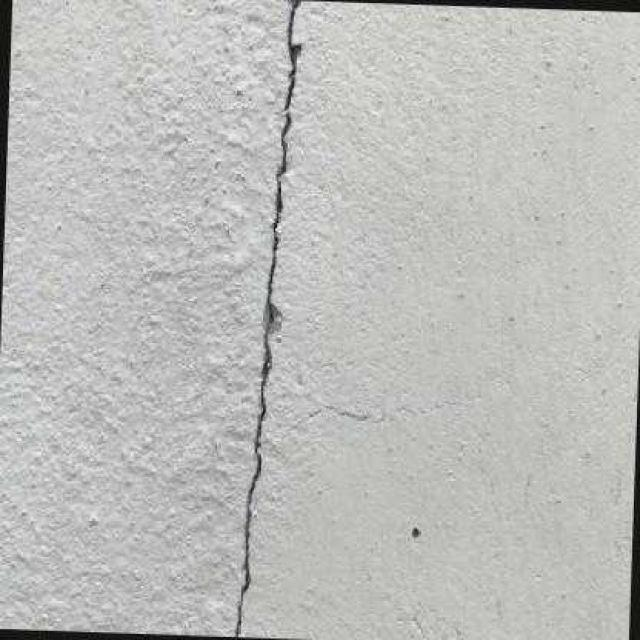D00: (234, 0, 299, 637)
